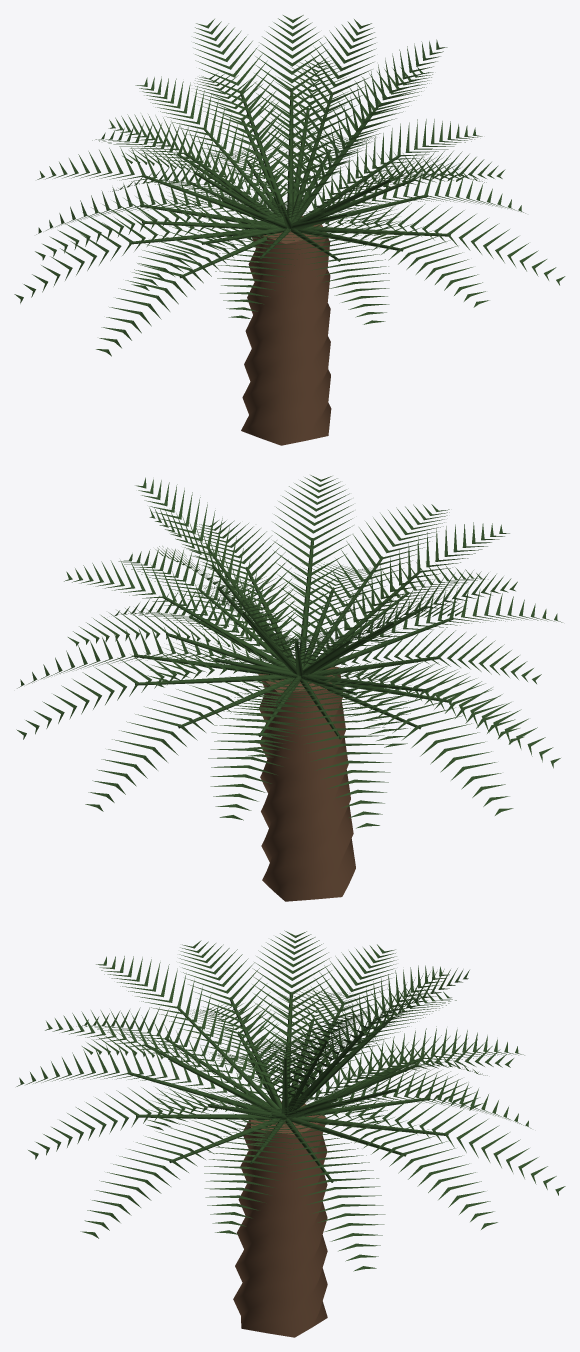
Rendered from cycad.glb.
3 renders of one model, top to bottom at view 1: azimuth 30°, elevation 25°; view 2: azimuth 150°, elevation 25°; view 3: azimuth 270°, elevation 25°, orthographic. The views are drawn at different scales.
Parts seen in each view (by area): view 1: cycad-cycad-frond, cycad-cycad-trunk; view 2: cycad-cycad-frond, cycad-cycad-trunk; view 3: cycad-cycad-frond, cycad-cycad-trunk.
Boxes of the visible parts, x1,y1,x2,y2 form: cycad-cycad-frond: (14, 15, 565, 356); cycad-cycad-trunk: (241, 216, 331, 445); cycad-cycad-frond: (16, 475, 562, 828); cycad-cycad-trunk: (258, 666, 355, 901); cycad-cycad-frond: (16, 930, 565, 1271); cycad-cycad-trunk: (233, 1101, 327, 1337).
Bounding box in the file's own units: 2.19 × 1.57 × 2.16.
